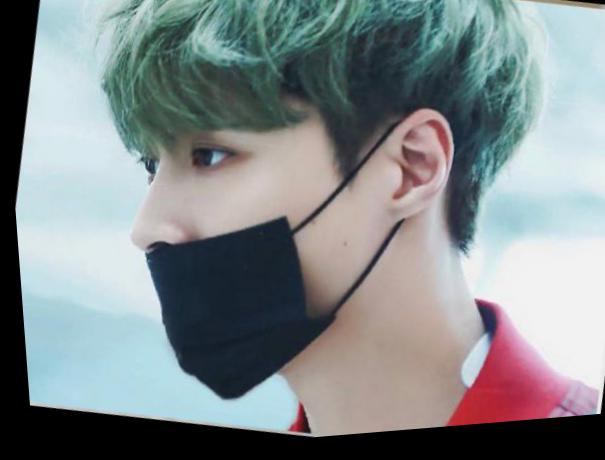WRONG: (74, 30, 371, 425)
